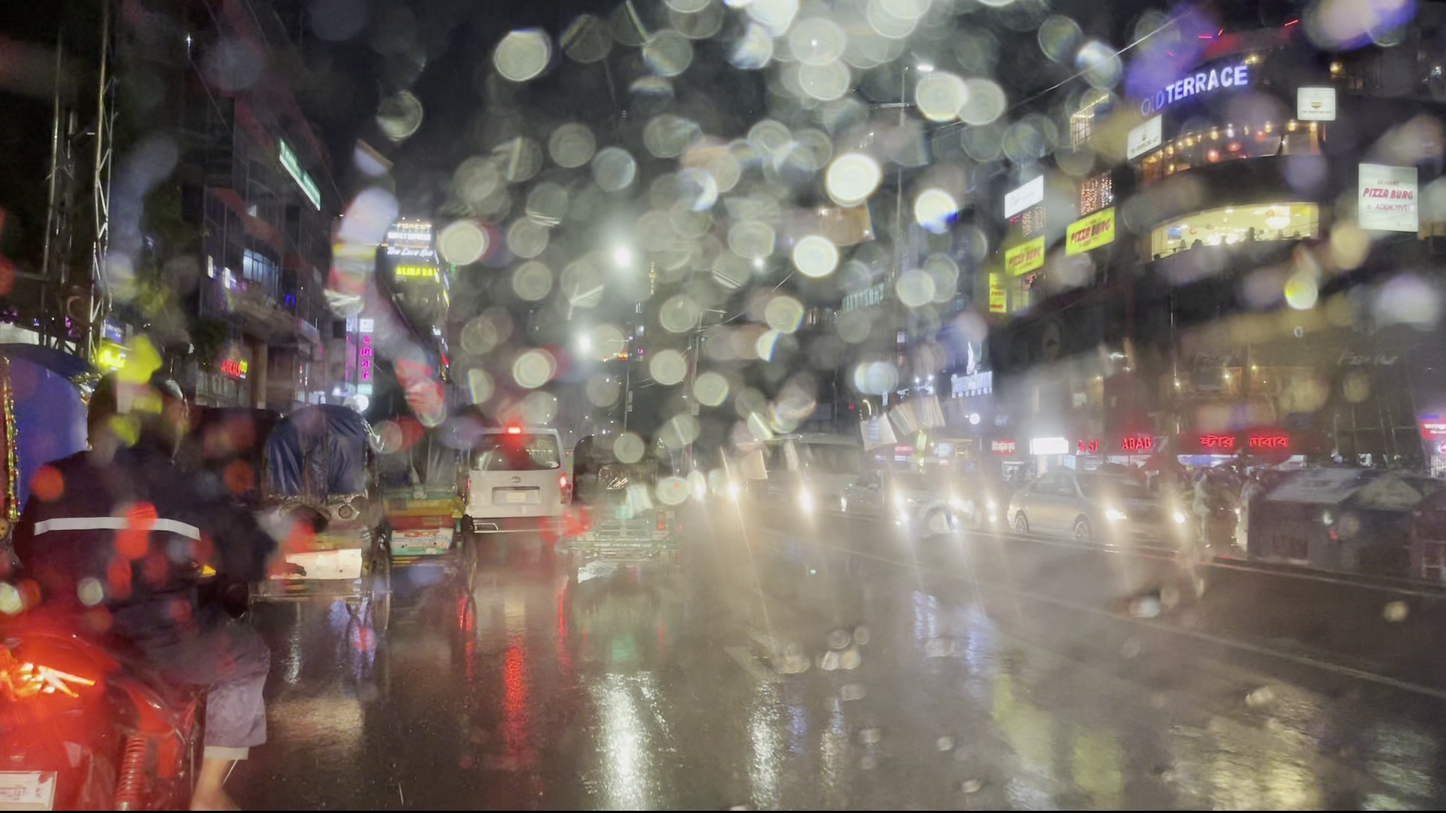car: (1003, 464, 1189, 558), (459, 422, 572, 555)
motorbike: (4, 366, 310, 811)
